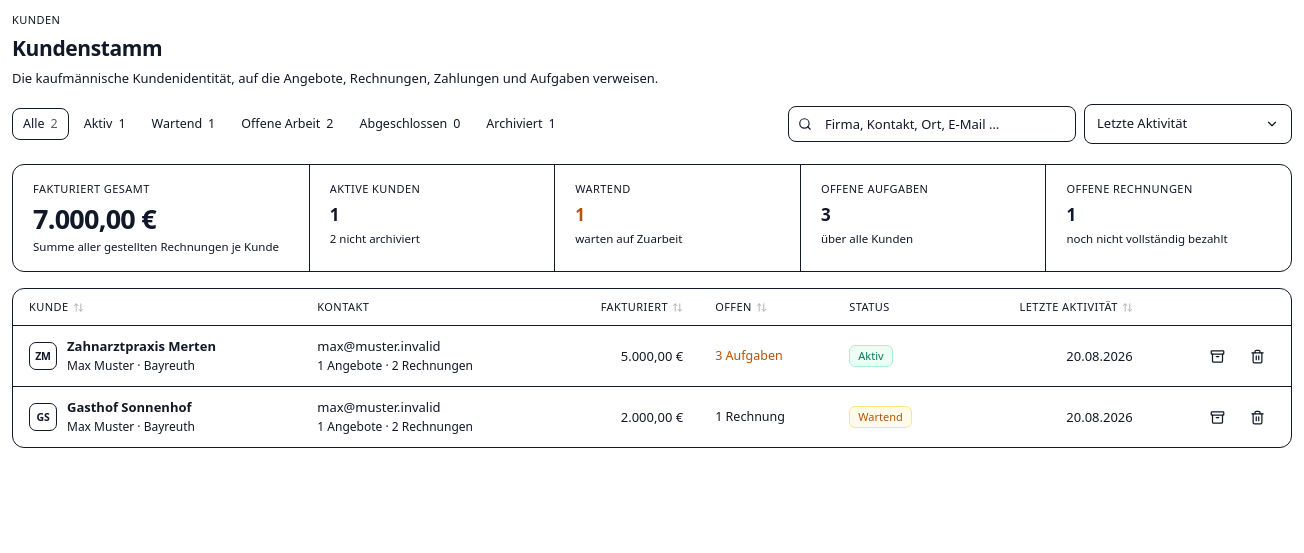
Test case: customer workspace › names the filter and the query in the no-match state and offers the way out
The width and height of the screenshot is (1304, 553).
Expected: the table is shown, [13,289,1291,447]
Step 1. Type "zzzz" into the search field named "Kunden durchsuchen" → (932, 124), box [788,106,1076,142]
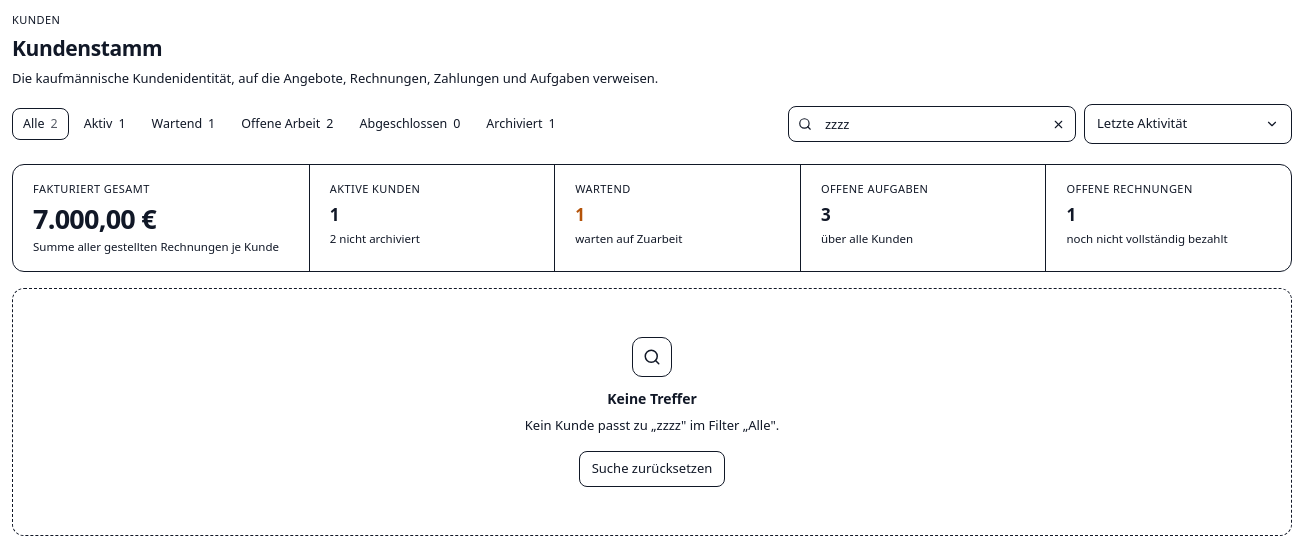
Expected: the text "Keine Treffer" is shown, [607,389,697,409]
Step 2. Click the button "Suche zurücksetzen" → (652, 469), box [579,451,725,487]
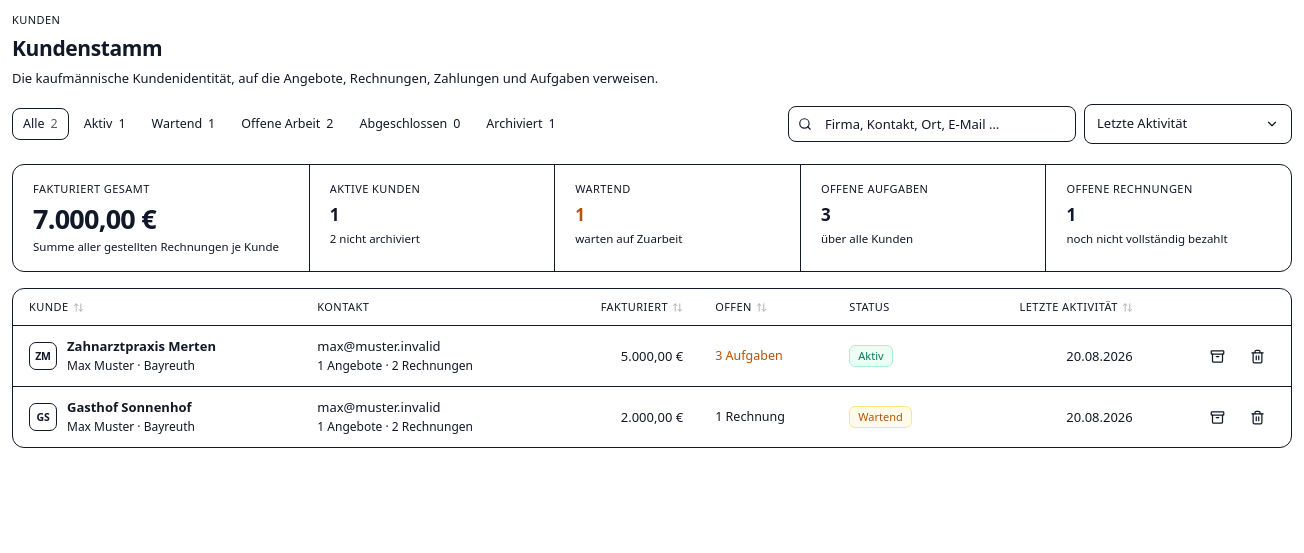
Expected: the table is shown, [13,289,1291,447]
